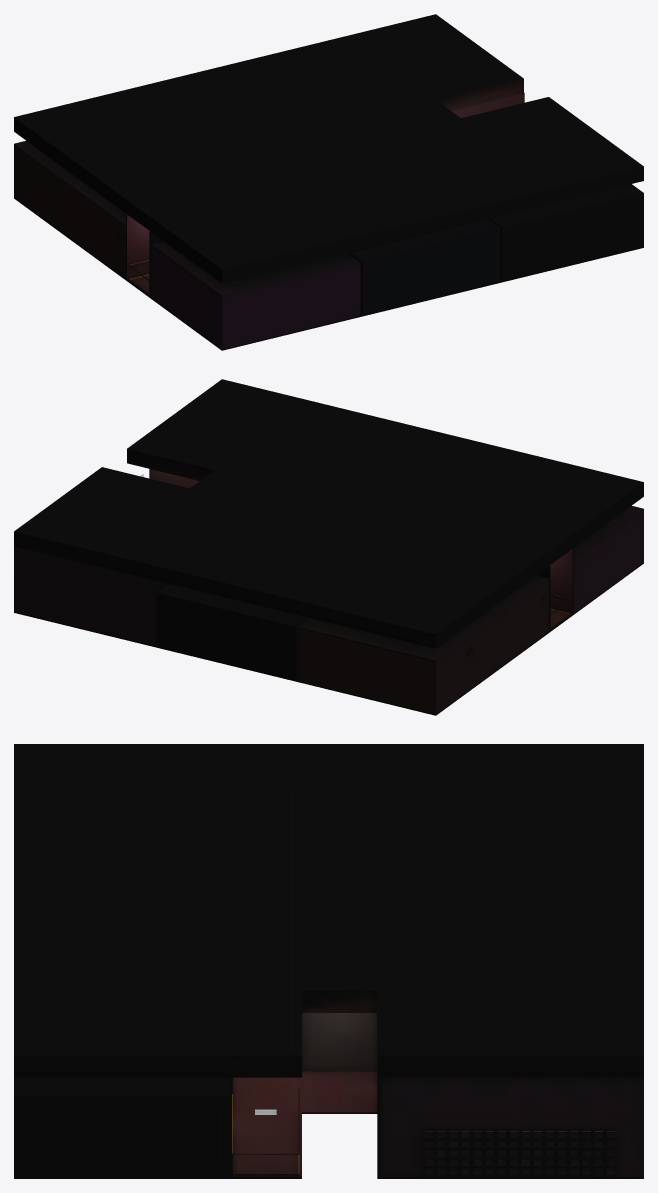
Rendered from rouge_xl_f2.glb.
3 views of the same model, one above another, from view 1: azimuth 30°, elevation 25°; view 2: azimuth 150°, elevation 25°; view 3: azimuth 270°, elevation 25° (orthographic). The views are drawn at different scales.
Parts seen in each view (by area): view 1: office_kopo201; view 2: office_kopo201; view 3: office_kopo201.
Boxes of the visible parts, x1,y1,x2,y2 form: office_kopo201: (14, 14, 643, 350); office_kopo201: (14, 379, 643, 715); office_kopo201: (14, 744, 643, 1178).
Size of the model in its own units: 27.64 by 5.05 by 23.4.
1 material, 1 textured.
